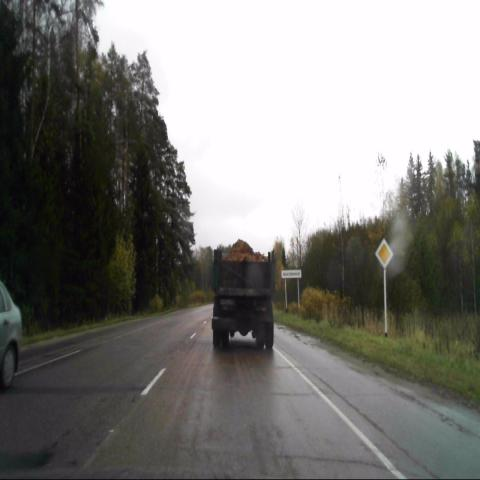2_1: (375, 238, 393, 268)
